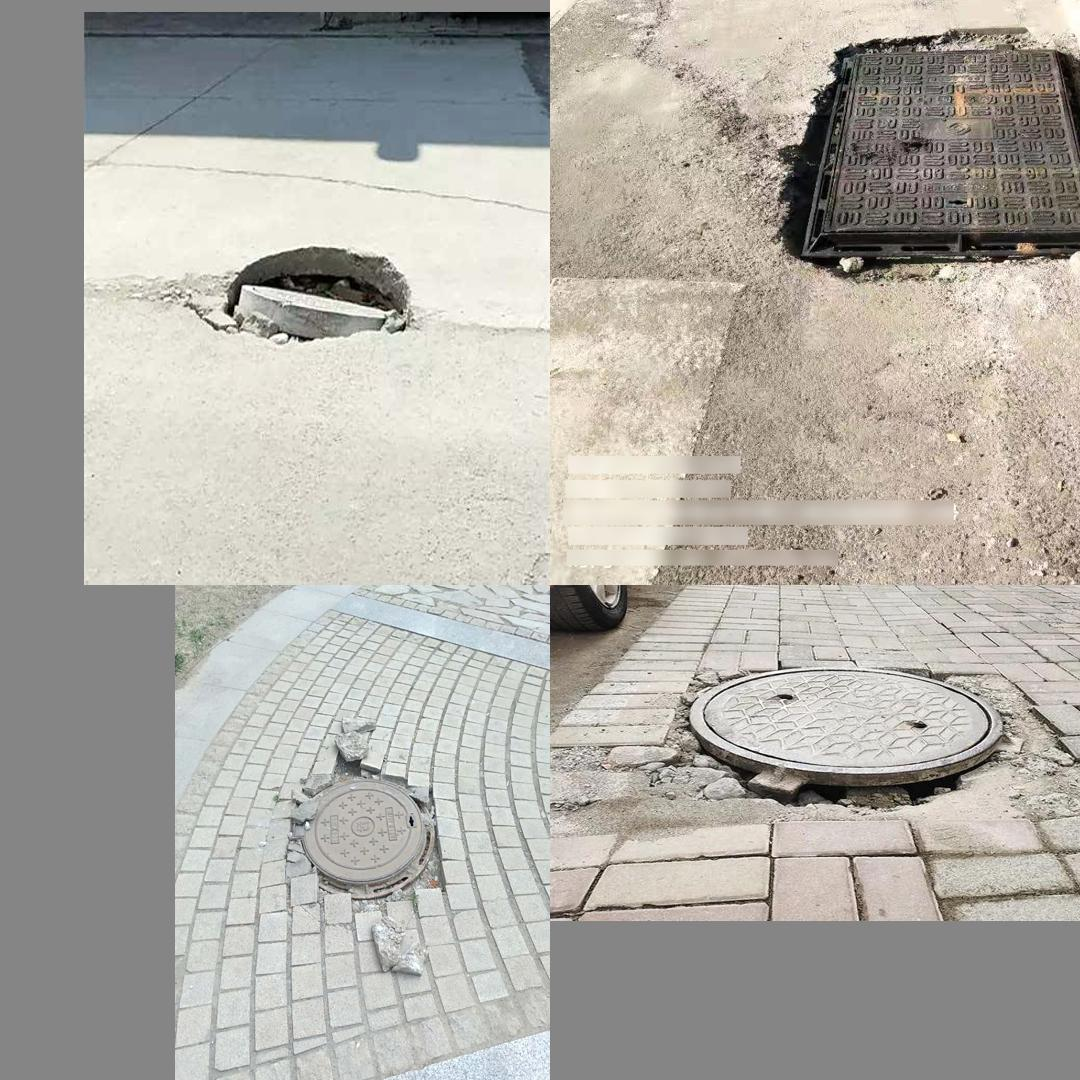circle: (608, 667, 1080, 820), (778, 37, 1080, 275), (158, 232, 432, 373), (265, 743, 460, 927)
